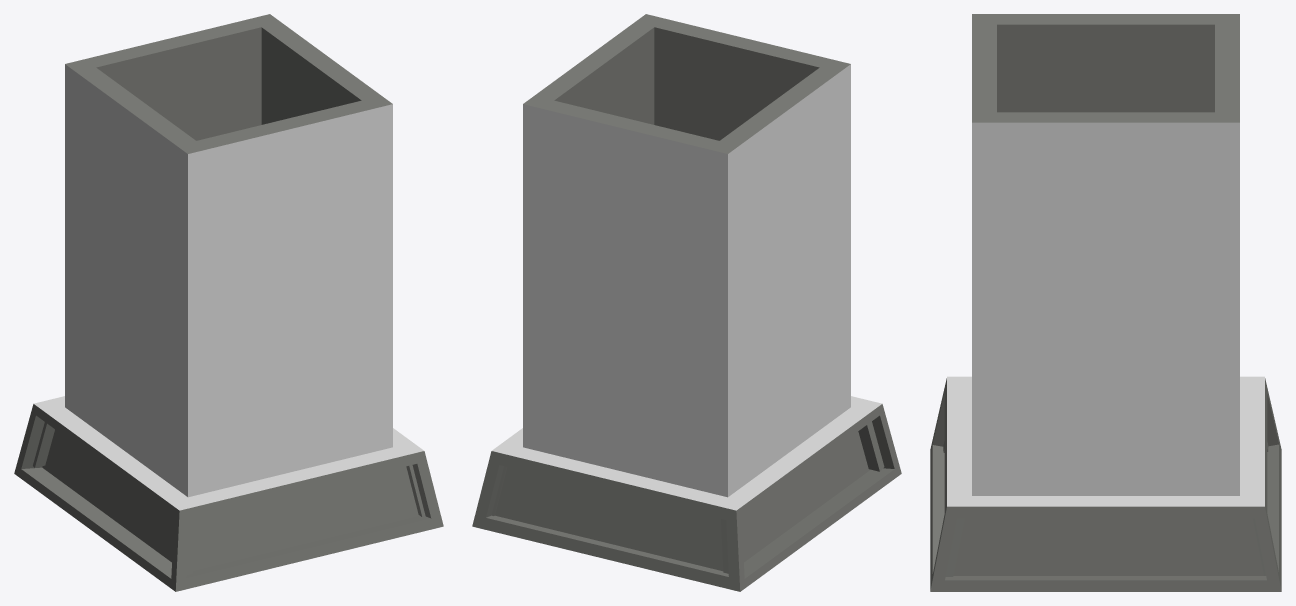
The model's file is Container3.fbx.
3 views of the same model, side by side, from view 1: azimuth 30°, elevation 25°; view 2: azimuth 150°, elevation 25°; view 3: azimuth 270°, elevation 25° (orthographic). The views are drawn at different scales.
Parts seen in each view (by area): view 1: Container3; view 2: Container3; view 3: Container3.
Boxes of the visible parts, x1,y1,x2,y2 form: Container3: (14,14,443,591); Container3: (472,14,901,591); Container3: (930,14,1281,591).
Size of the model in its own units: 51.16 by 75.87 by 53.39.
